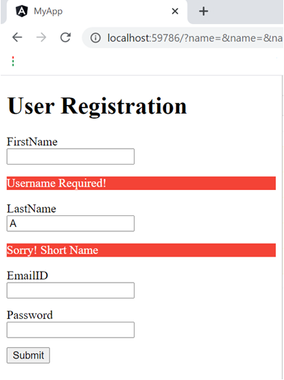error_message: (7, 177, 108, 189), (7, 244, 99, 256)
